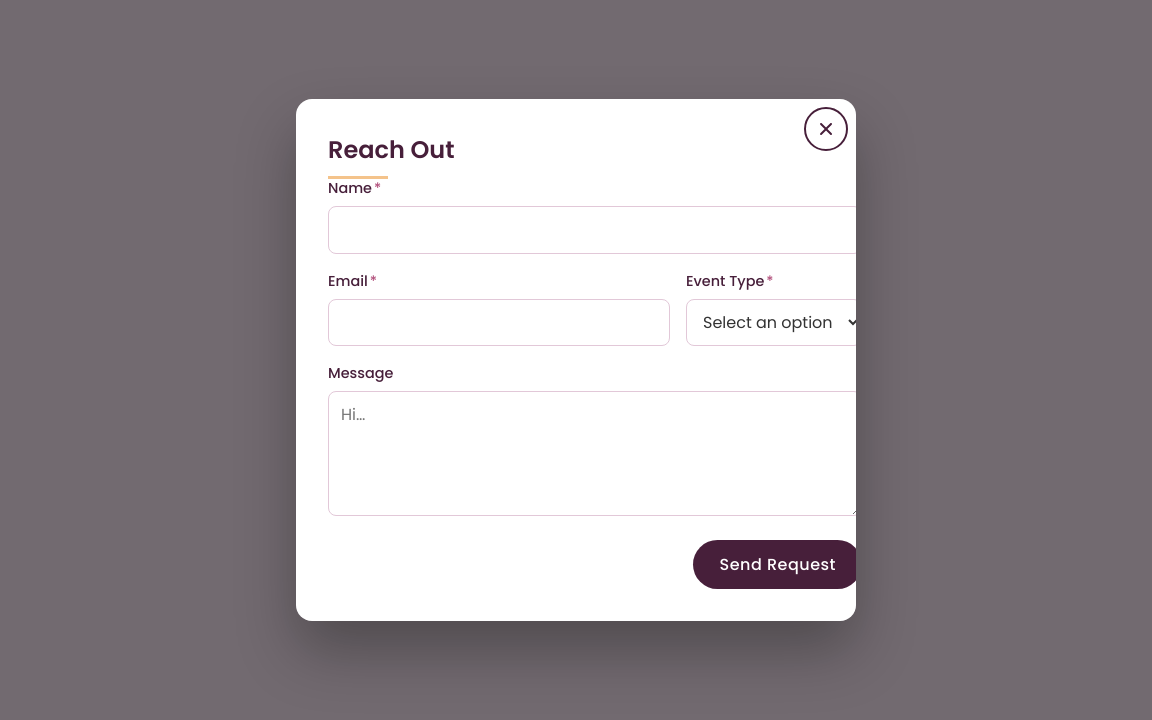
Scenario: FormModal › submits to the configured endpoint with subject and extra fields
Type "Jamie" into the field labelled "Name*".
click(595, 230); type("Jamie")  # box [328,206,862,254]
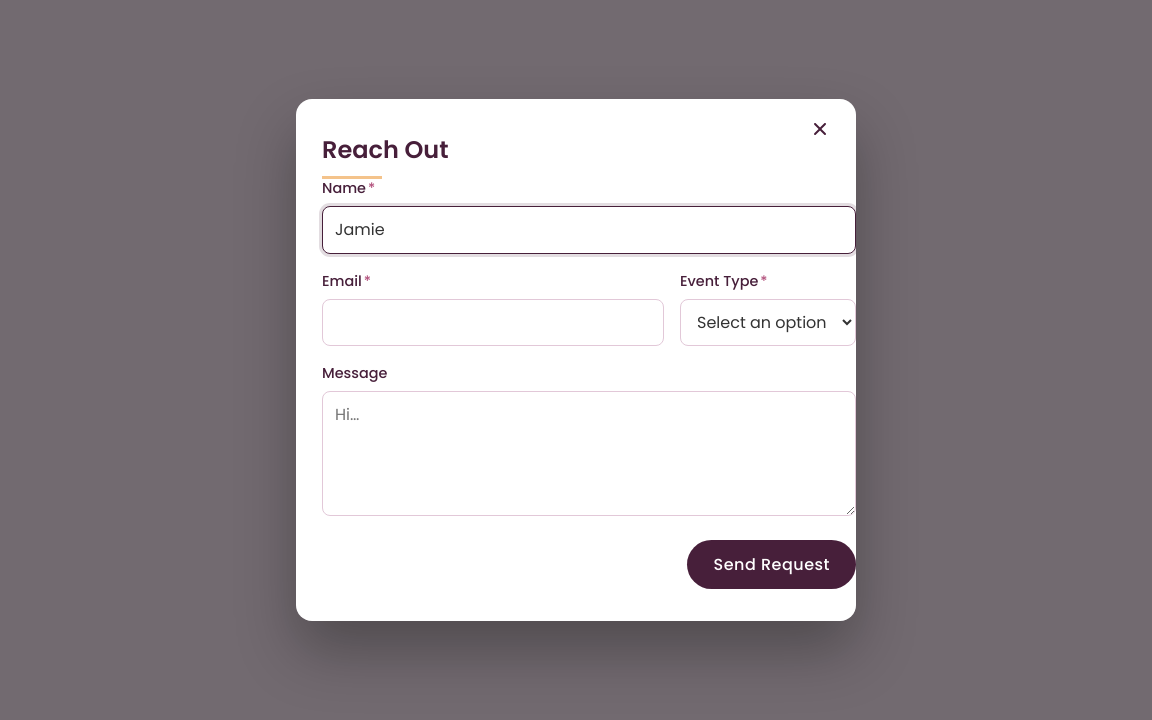
Type "jamie@example.com" into the field labelled "Email*".
click(493, 322); type("jamie@example.com")  # box [322,299,664,346]
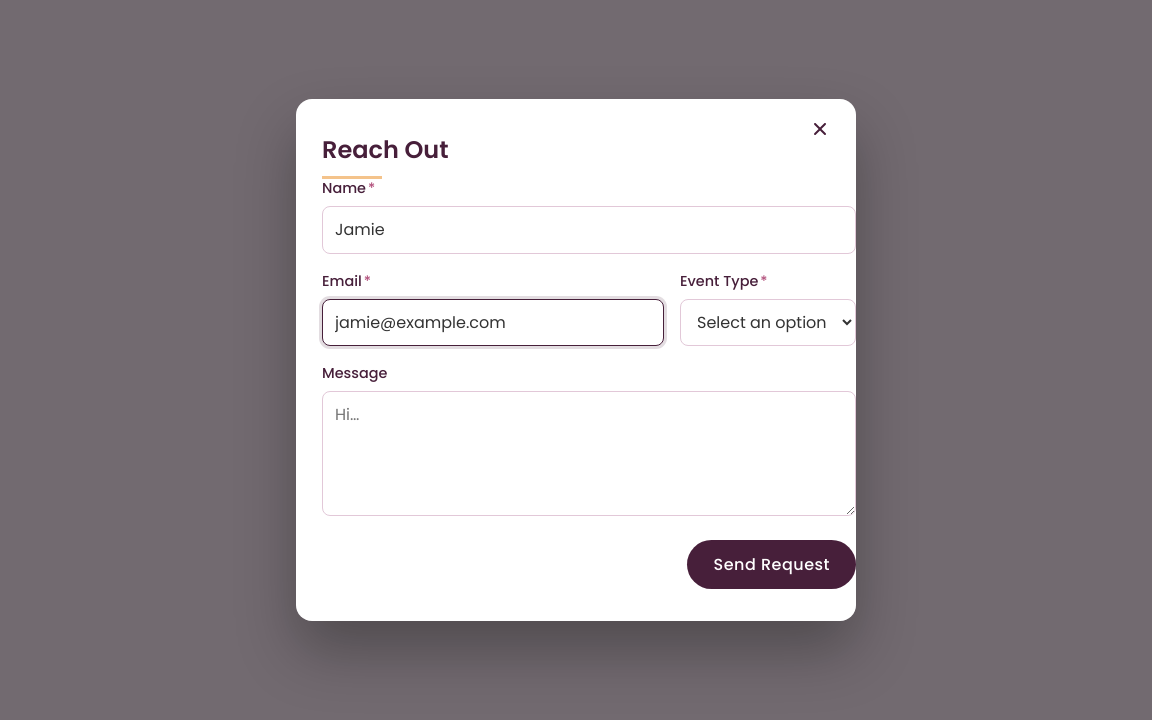
Select "Wedding" in the dropdown labelled "Event Type*" at (768, 322), box [680,299,856,346]
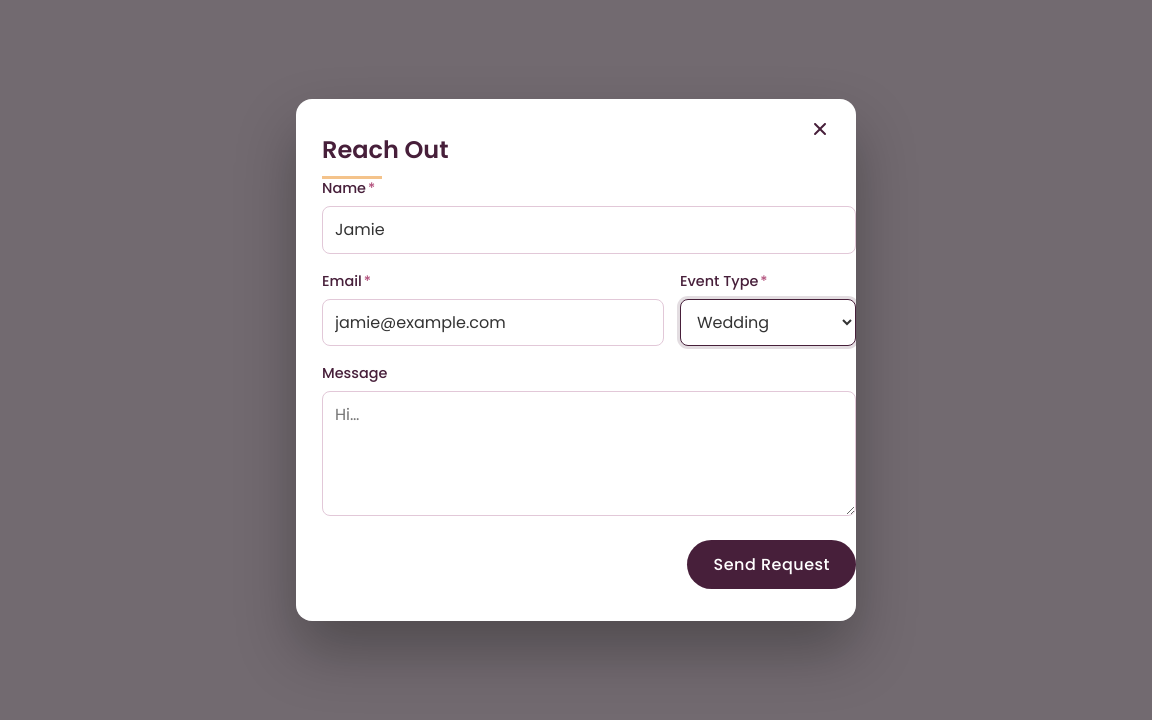
Click the button "Send Request".
click(772, 565)  # box [688,540,856,589]
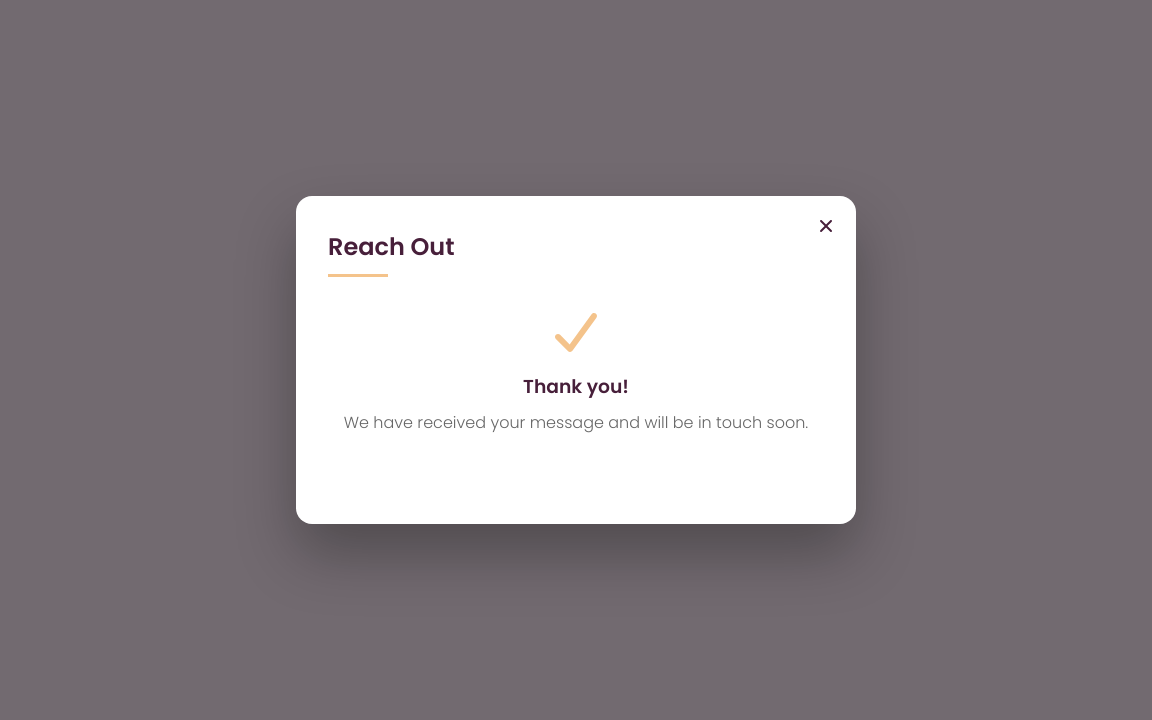
expect the heading "Thank you!" is shown: met, box [523,373,629,400]
